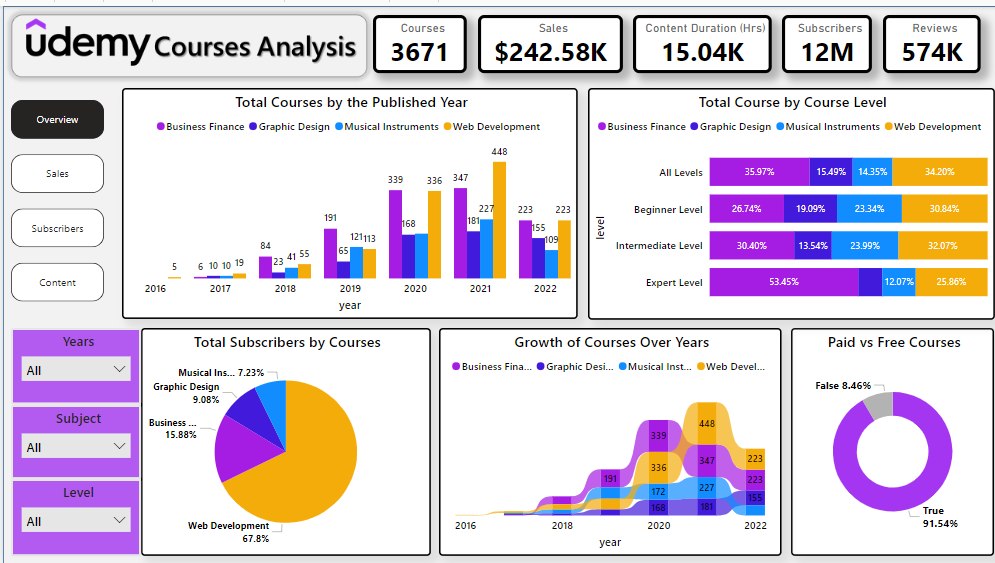

Layout of this report page (visuals, bound fields, positions):
{"tool":"powerbi","page":{"name":"Overview","canvas":[1280,720],"ordinal":0},"visuals":[{"type":"card","title":"Courses","fields":{"Values":["Count(udemy_courses_dataset.course_id)"]},"box":[477.6,11.8,121.1,75],"z":0},{"type":"card","title":"Sales","fields":{"Values":["Sum(udemy_courses_dataset.price)"]},"box":[613.1,11.5,186.9,75.4],"z":1000},{"type":"card","title":"Content Duration (Hrs)","fields":{"Values":["Sum(udemy_courses_dataset.content_duration)"]},"box":[813.1,11.5,178.7,75.4],"z":2000},{"type":"card","title":"Subscribers","fields":{"Values":["Sum(udemy_courses_dataset.num_subscribers)"]},"box":[1004.9,11.5,116.4,75.4],"z":3000},{"type":"card","title":"Reviews","fields":{"Values":["Sum(udemy_courses_dataset.num_reviews)"]},"box":[1136.1,11.5,126.2,75.4],"z":4000},{"type":"donutChart","title":"Paid vs Free Courses","fields":{"Category":["udemy_courses_dataset.is_paid"],"Y":["Count(udemy_courses_dataset.Sl.No)"]},"box":[1017.4,415.9,262.3,294.2],"z":5000},{"type":"clusteredColumnChart","title":"Total Courses by the Published Year","fields":{"Category":["udemy_courses_dataset.year"],"Y":["CountNonNull(udemy_courses_dataset.subject)"],"Series":["udemy_courses_dataset.subject"]},"box":[153.5,105.8,588.4,298.1],"z":6000},{"type":"hundredPercentStackedBarChart","title":"Total Course by Course Level","fields":{"Category":["udemy_courses_dataset.level"],"Y":["CountNonNull(udemy_courses_dataset.subject)"],"Series":["udemy_courses_dataset.subject"]},"box":[755.1,105.8,524.6,298.6],"z":7000},{"type":"pieChart","title":"Total Subscribers by Courses","fields":{"Category":["udemy_courses_dataset.subject"],"Y":["Sum(udemy_courses_dataset.num_subscribers)"]},"box":[178.3,415.9,373.9,294.2],"z":8000},{"type":"ribbonChart","title":"Growth of Courses Over Years","fields":{"Category":["udemy_courses_dataset.year"],"Series":["udemy_courses_dataset.subject"],"Y":["CountNonNull(udemy_courses_dataset.subject)"]},"box":[562.3,415.9,442,294.2],"z":9000},{"type":"slicer","title":"Years","fields":{"Values":["udemy_courses_dataset.year"]},"box":[10.1,415.9,168.1,98.6],"z":10000},{"type":"slicer","title":"Subject","fields":{"Values":["udemy_courses_dataset.subject"]},"box":[10.1,514.5,168.1,95.7],"z":11000},{"type":"slicer","title":"Level","fields":{"Values":["udemy_courses_dataset.level"]},"box":[10.1,610.1,168.1,100],"z":12000},{"type":"pageNavigator","box":[10.1,121.7,120.3,263.8],"z":13000}]}

Visuals, with their boxes in screenshot pixels (x1, y1, x2, y2), scaled from the page's 1280x720 canvas onto the 995x563 screenshot:
"Courses" card: 371:9:465:68
"Sales" card: 477:9:622:68
"Content Duration (Hrs)" card: 632:9:771:68
"Subscribers" card: 781:9:872:68
"Reviews" card: 883:9:981:68
"Paid vs Free Courses" donutChart: 791:325:994:555
"Total Courses by the Published Year" clusteredColumnChart: 119:83:577:316
"Total Course by Course Level" hundredPercentStackedBarChart: 587:83:994:316
"Total Subscribers by Courses" pieChart: 139:325:429:555
"Growth of Courses Over Years" ribbonChart: 437:325:781:555
"Years" slicer: 8:325:139:402
"Subject" slicer: 8:402:139:477
"Level" slicer: 8:477:139:555
pageNavigator: 8:95:101:301
